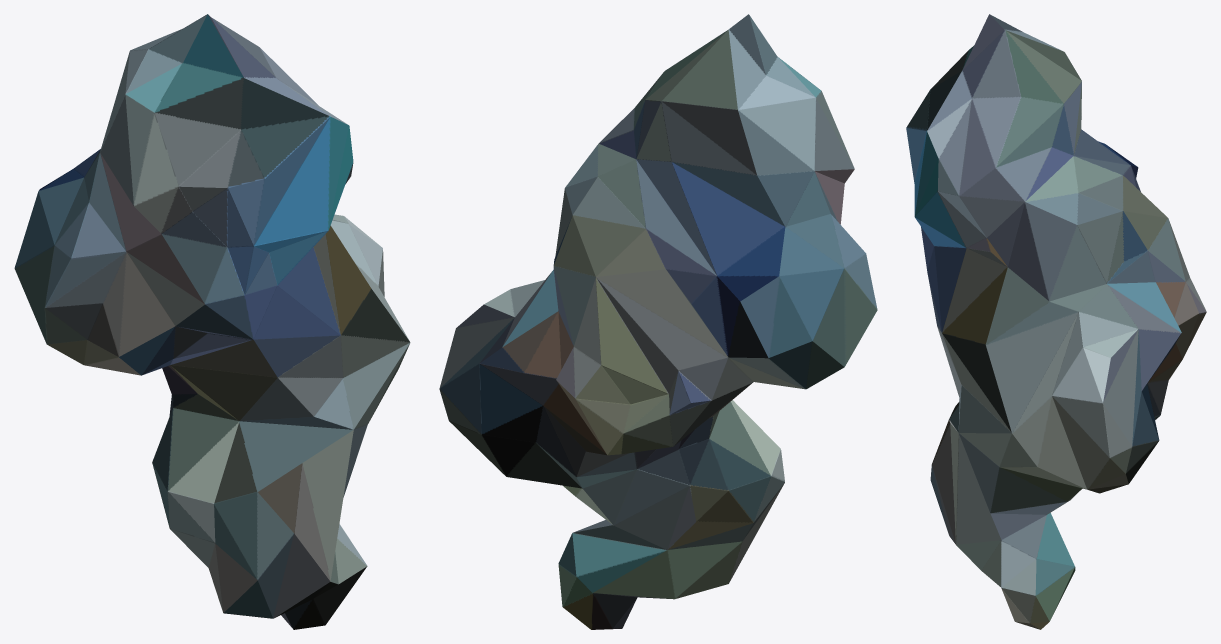
Rendered from smoke.fbx.
The picture shows the model from 3 angles, left to right: view 1: azimuth 30°, elevation 25°; view 2: azimuth 150°, elevation 25°; view 3: azimuth 270°, elevation 25°; orthographic projection. The views are drawn at different scales.
Visible parts, largest first — view 1: Mesh_0; view 2: Mesh_0; view 3: Mesh_0.
Boxes of the visible parts, x1,y1,x2,y2 form: Mesh_0: (14, 14, 410, 629); Mesh_0: (439, 14, 877, 629); Mesh_0: (906, 14, 1206, 629).
Size of the model in its own units: 75.18 by 120 by 58.21.
Materials: 1 (1 with a texture image).
